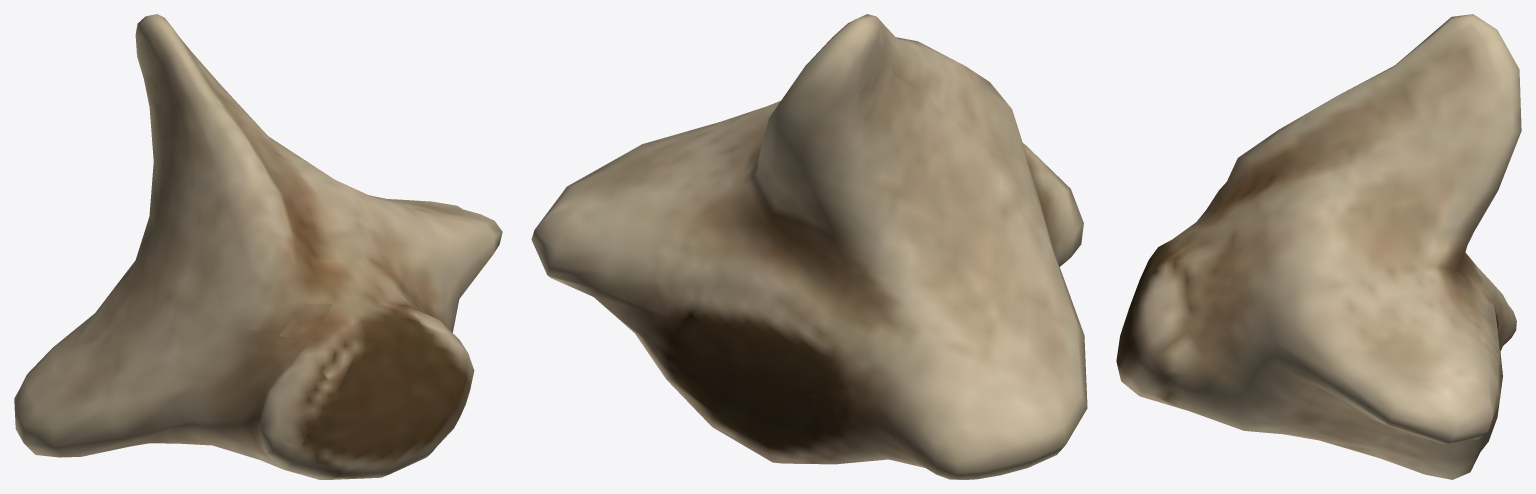
File: Caudal_Vertebrae.glb
The picture shows the model from 3 angles, left to right: view 1: azimuth 30°, elevation 25°; view 2: azimuth 150°, elevation 25°; view 3: azimuth 270°, elevation 25°; orthographic projection. The views are drawn at different scales.
Visible parts, largest first — view 1: Caudal_Vertebrae_01; view 2: Caudal_Vertebrae_01; view 3: Caudal_Vertebrae_01.
Boxes of the visible parts, bbox=[...] form: Caudal_Vertebrae_01: bbox=[14, 14, 502, 479]; Caudal_Vertebrae_01: bbox=[531, 14, 1087, 479]; Caudal_Vertebrae_01: bbox=[1116, 14, 1521, 479].
Size of the model in its own units: 0.0599 by 0.0527 by 0.0464.
Materials: 1 (1 with a texture image).
